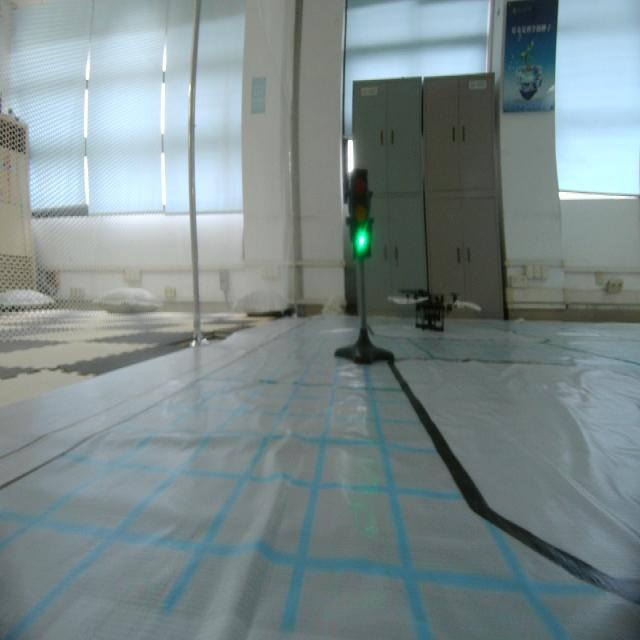green: (348, 170, 374, 262)
